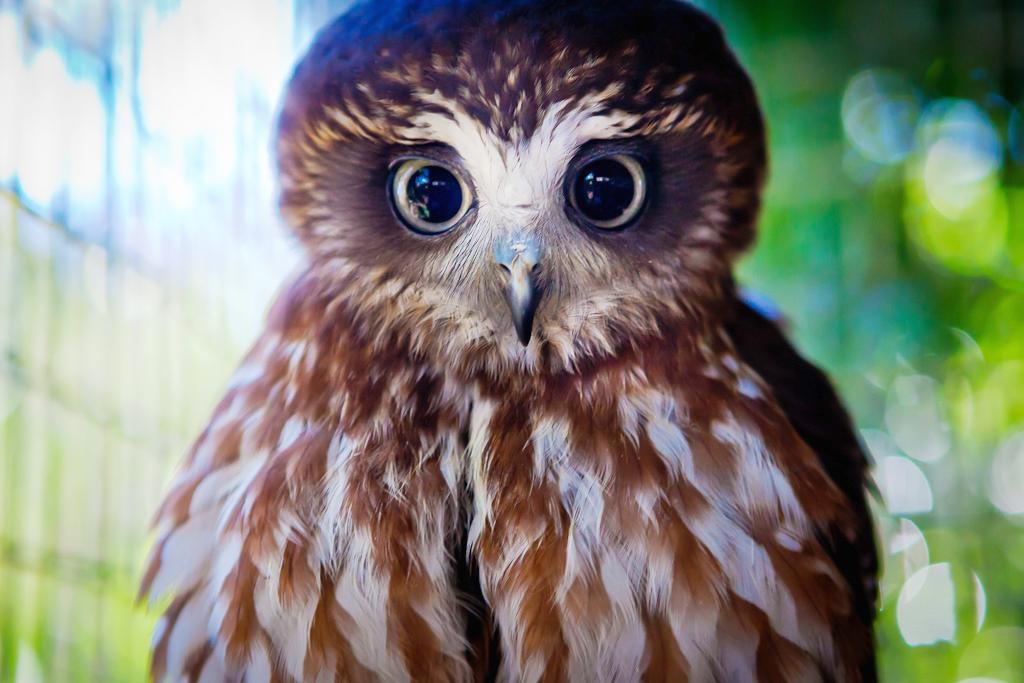Owl: (122, 11, 908, 683)
